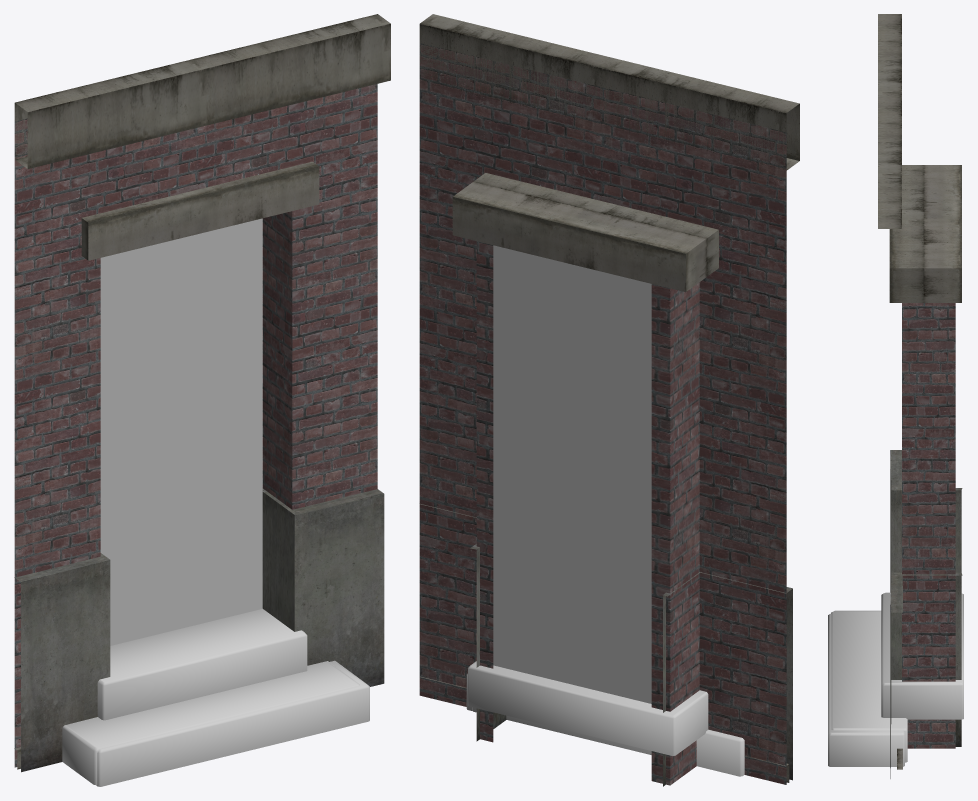
Rendered from Wall_B_Brick_Door_D_2x.FBX.
3 views of the same model, side by side, from view 1: azimuth 30°, elevation 25°; view 2: azimuth 150°, elevation 25°; view 3: azimuth 270°, elevation 25° (orthographic). The views are drawn at different scales.
Parts seen in each view (by area): view 1: Wall_B_Brick_Door_D_2x; view 2: Wall_B_Brick_Door_D_2x; view 3: Wall_B_Brick_Door_D_2x.
Boxes of the visible parts, bbox=[...] form: Wall_B_Brick_Door_D_2x: bbox=[14, 14, 390, 786]; Wall_B_Brick_Door_D_2x: bbox=[419, 14, 799, 786]; Wall_B_Brick_Door_D_2x: bbox=[828, 14, 963, 778].
Bounding box in the file's own units: 200 × 351 × 70.65.
